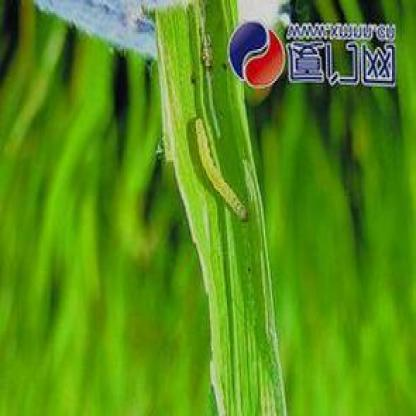leaf-folder: (185, 109, 259, 224)
